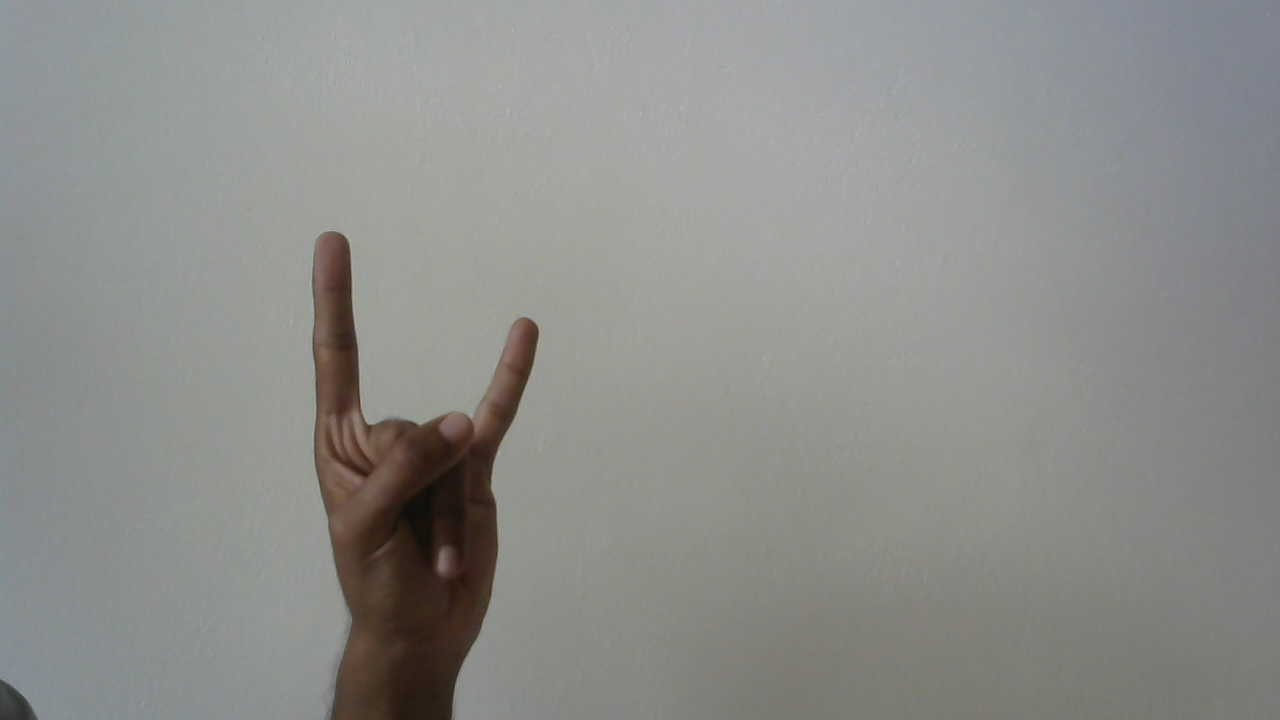iloveyou: (294, 223, 549, 658)
